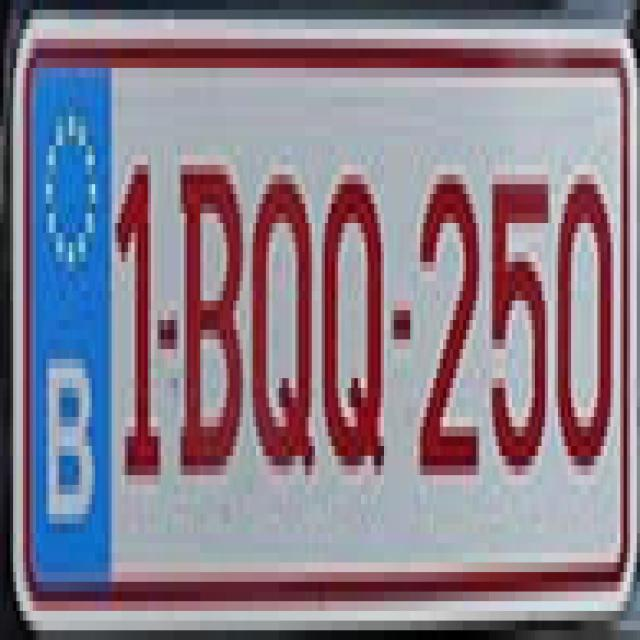Belgique: (29, 60, 112, 596)
EU: (21, 41, 631, 615)
